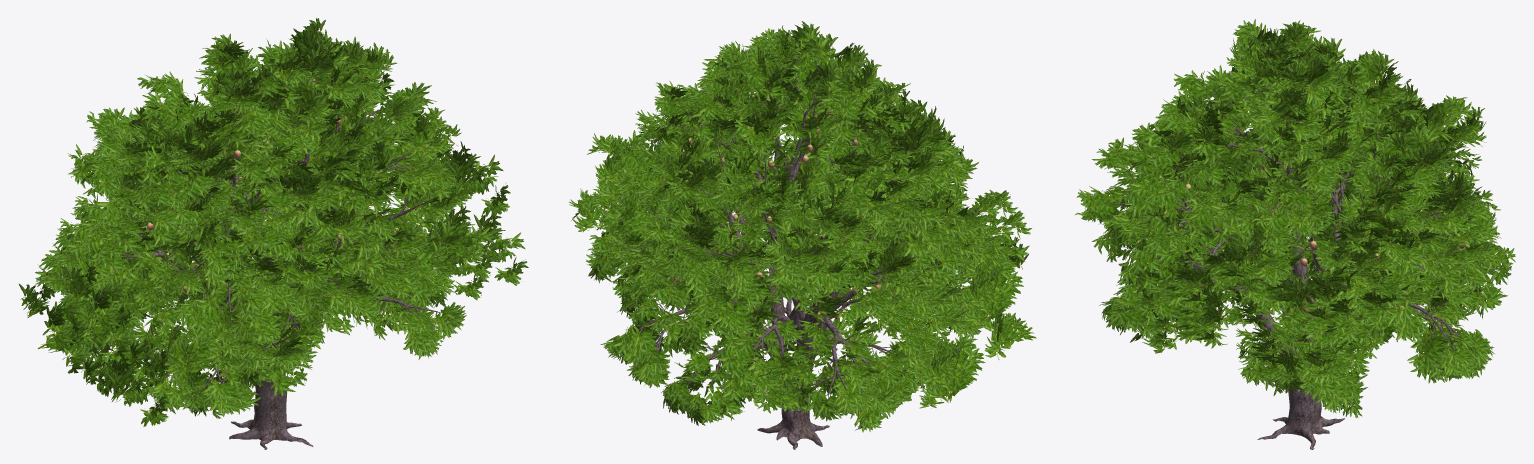
File: Mango Tree.fbx
3 views of the same model, side by side, from view 1: azimuth 30°, elevation 25°; view 2: azimuth 150°, elevation 25°; view 3: azimuth 270°, elevation 25° (orthographic). The views are drawn at different scales.
Parts seen in each view (by area): view 1: leaves, tree; view 2: leaves, tree; view 3: leaves, tree.
Boxes of the visible parts, x1,y1,x2,y2 form: leaves: (19, 18, 528, 426); tree: (73, 59, 442, 449); leaves: (569, 21, 1036, 432); tree: (610, 48, 984, 449); leaves: (1075, 19, 1515, 417); tree: (1106, 39, 1480, 449).
Bounding box in the file's own units: 753 × 686 × 676.
3 materials, 3 textured.
